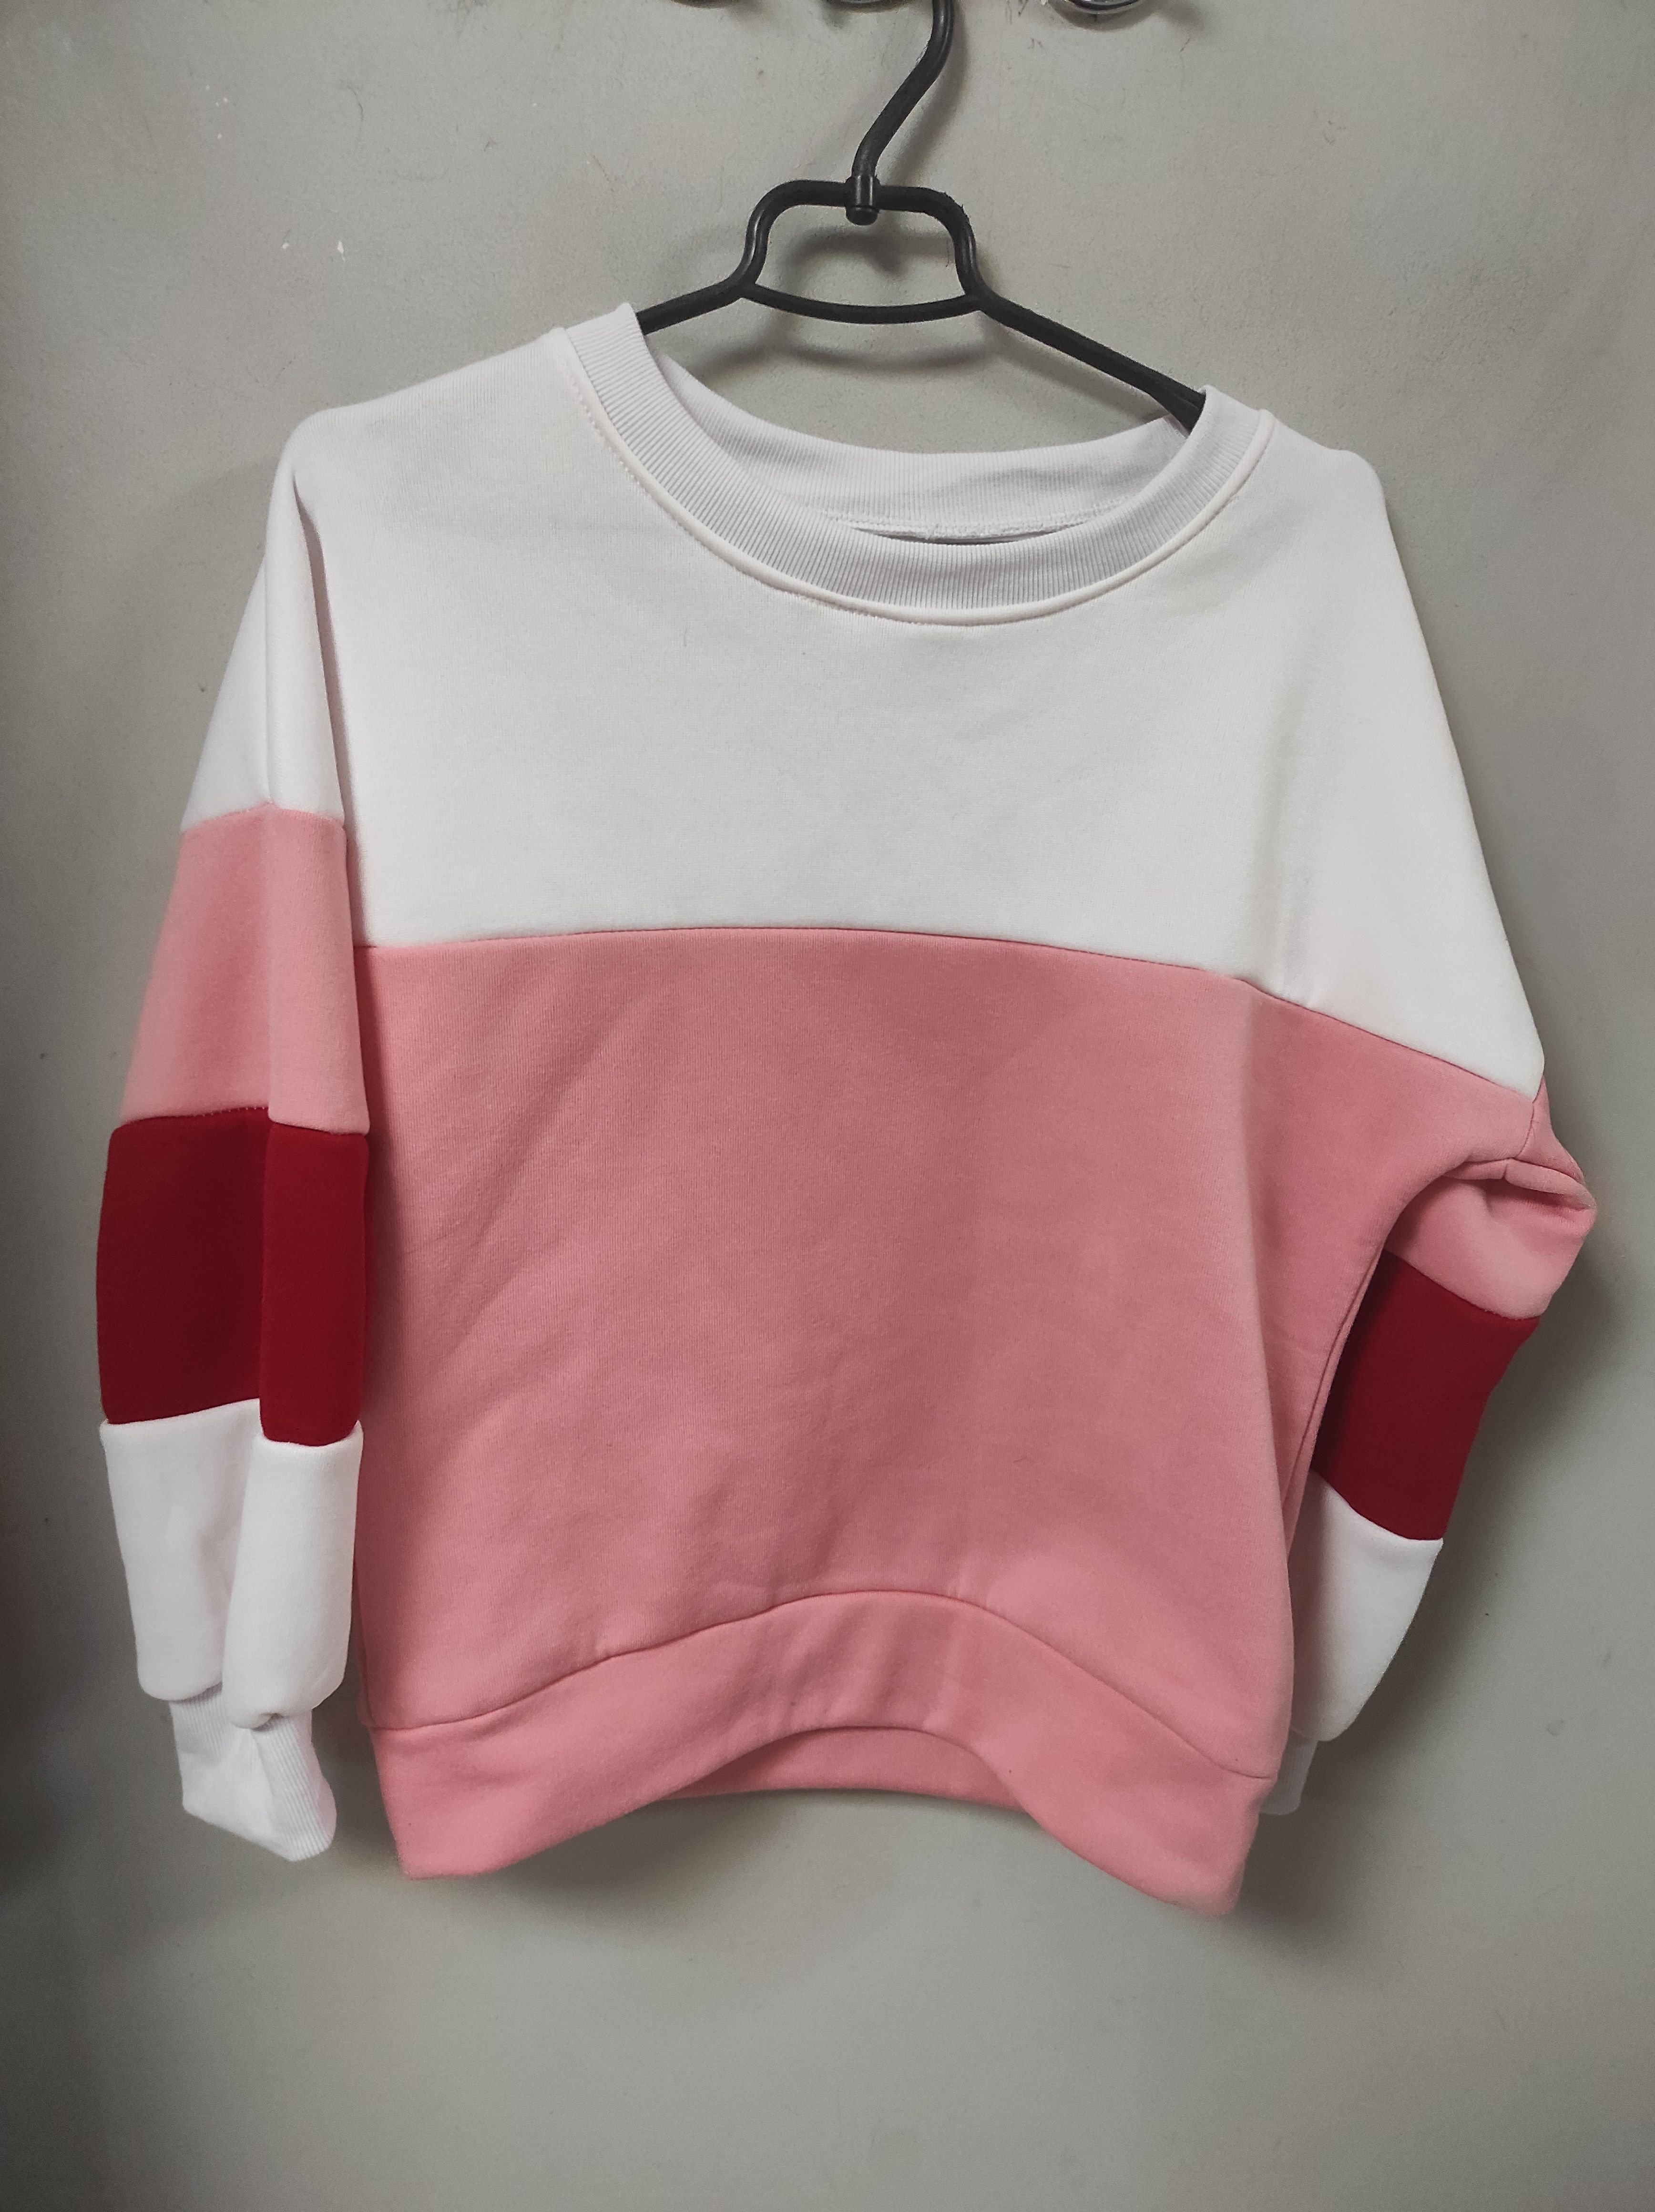clothes: (75, 315, 1613, 1967)
